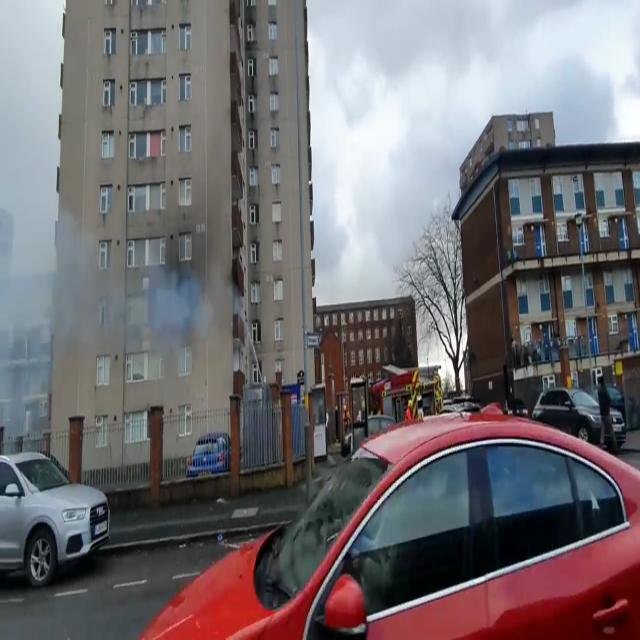Smoke: (0, 191, 108, 378), (144, 248, 212, 362)
